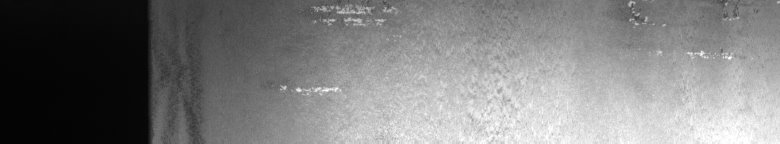hc: (271, 4, 408, 96)
